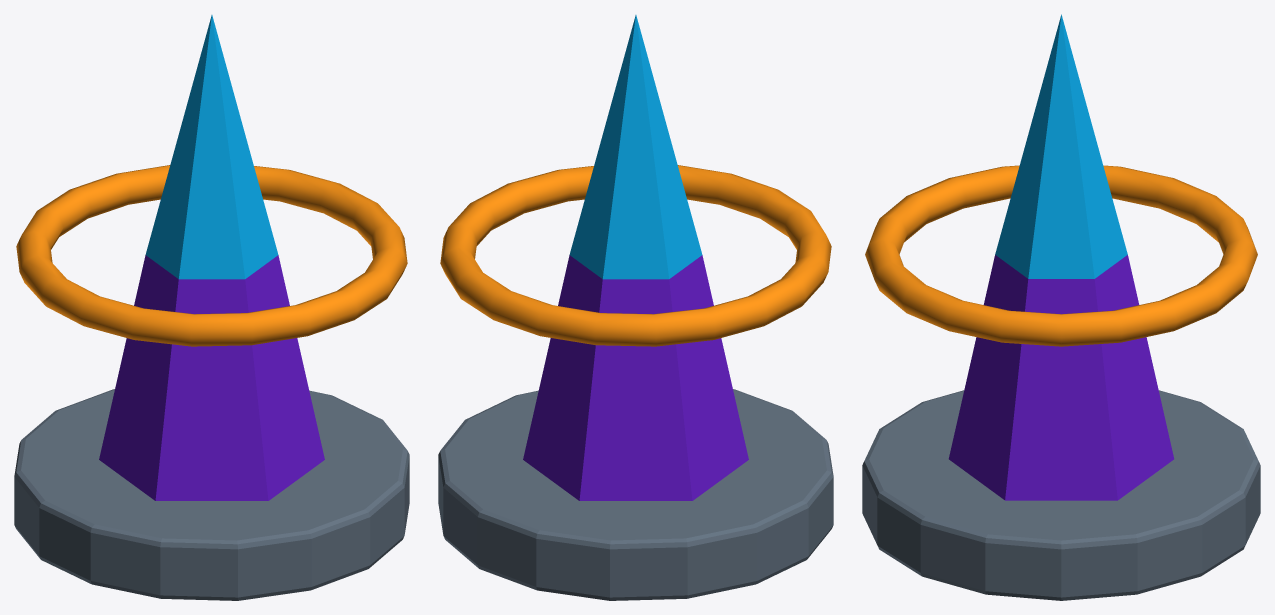
The model's file is wayfinder_crystal.obj.
3 views of the same model, side by side, from view 1: azimuth 30°, elevation 25°; view 2: azimuth 150°, elevation 25°; view 3: azimuth 270°, elevation 25° (orthographic).
Visible parts, largest first — view 1: crystal_plinth_M_stone, crystal_lower_M_purple, crystal_aura_M_gold, crystal_upper_M_cyan; view 2: crystal_plinth_M_stone, crystal_lower_M_purple, crystal_aura_M_gold, crystal_upper_M_cyan; view 3: crystal_plinth_M_stone, crystal_lower_M_purple, crystal_aura_M_gold, crystal_upper_M_cyan.
Boxes of the visible parts, x1,y1,x2,y2 form: crystal_plinth_M_stone: (14,389,409,600); crystal_lower_M_purple: (99,255,324,500); crystal_aura_M_gold: (16,165,407,346); crystal_upper_M_cyan: (145,15,278,279); crystal_plinth_M_stone: (438,389,833,600); crystal_lower_M_purple: (523,255,748,500); crystal_aura_M_gold: (440,165,831,346); crystal_upper_M_cyan: (569,15,702,279); crystal_plinth_M_stone: (862,390,1260,600); crystal_lower_M_purple: (948,255,1174,500); crystal_aura_M_gold: (865,165,1257,346); crystal_upper_M_cyan: (995,14,1127,278).
Size of the model in its own units: 0.6 by 0.84 by 0.6.
